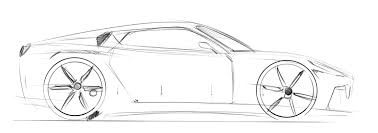car: (10, 13, 363, 130)
